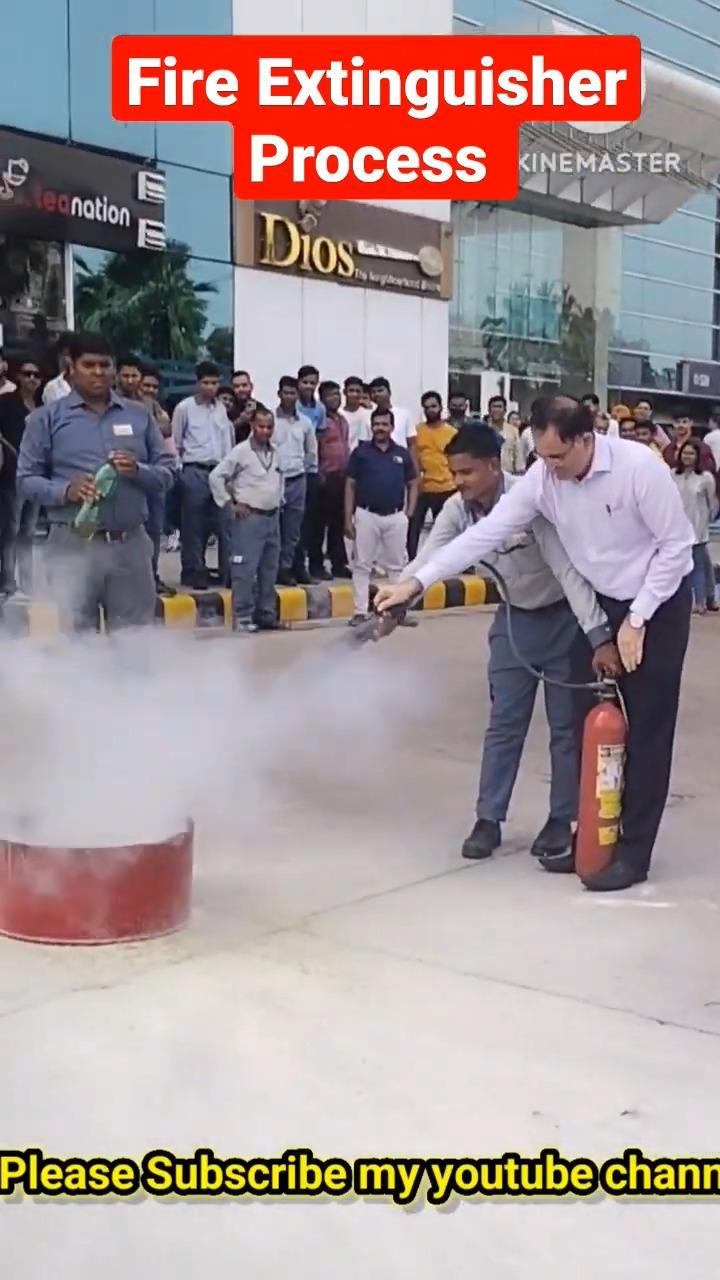FireExtinguisher: (563, 691, 636, 893)
